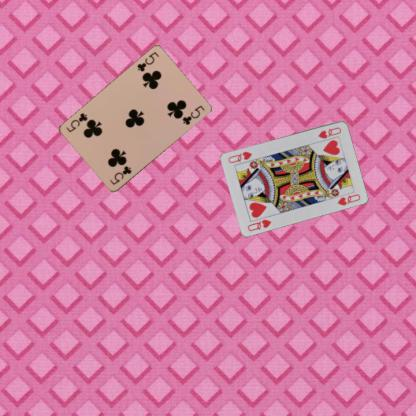5c: (135, 49, 160, 73), (107, 164, 133, 186)
Qh: (315, 124, 342, 140), (245, 217, 273, 232)
